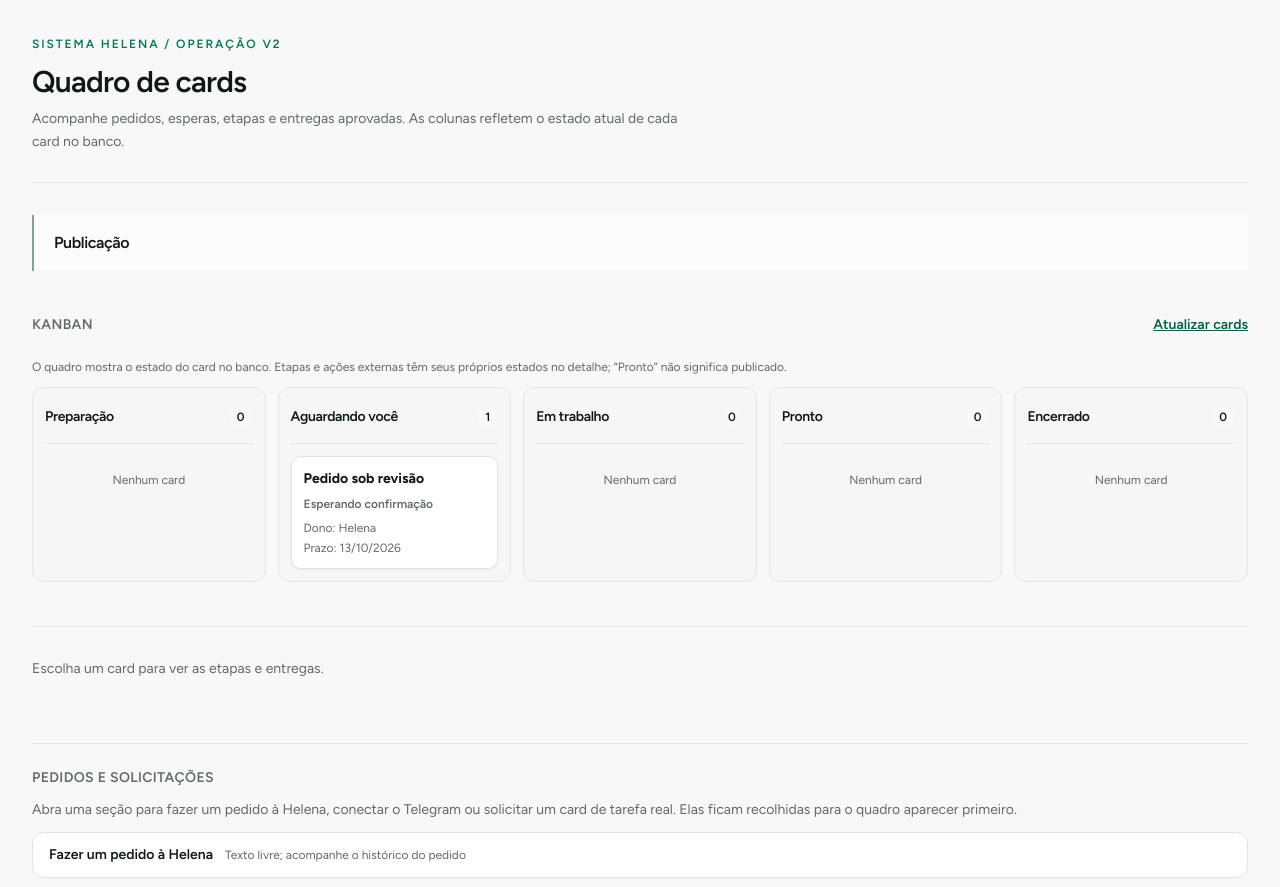
Test: mostra decisão do fundador com versão real apenas para card selecionado em estado permitido
Click the button "Pedido sob revisão" at (394, 512), box top-left (291, 456), bottom-right (498, 569)
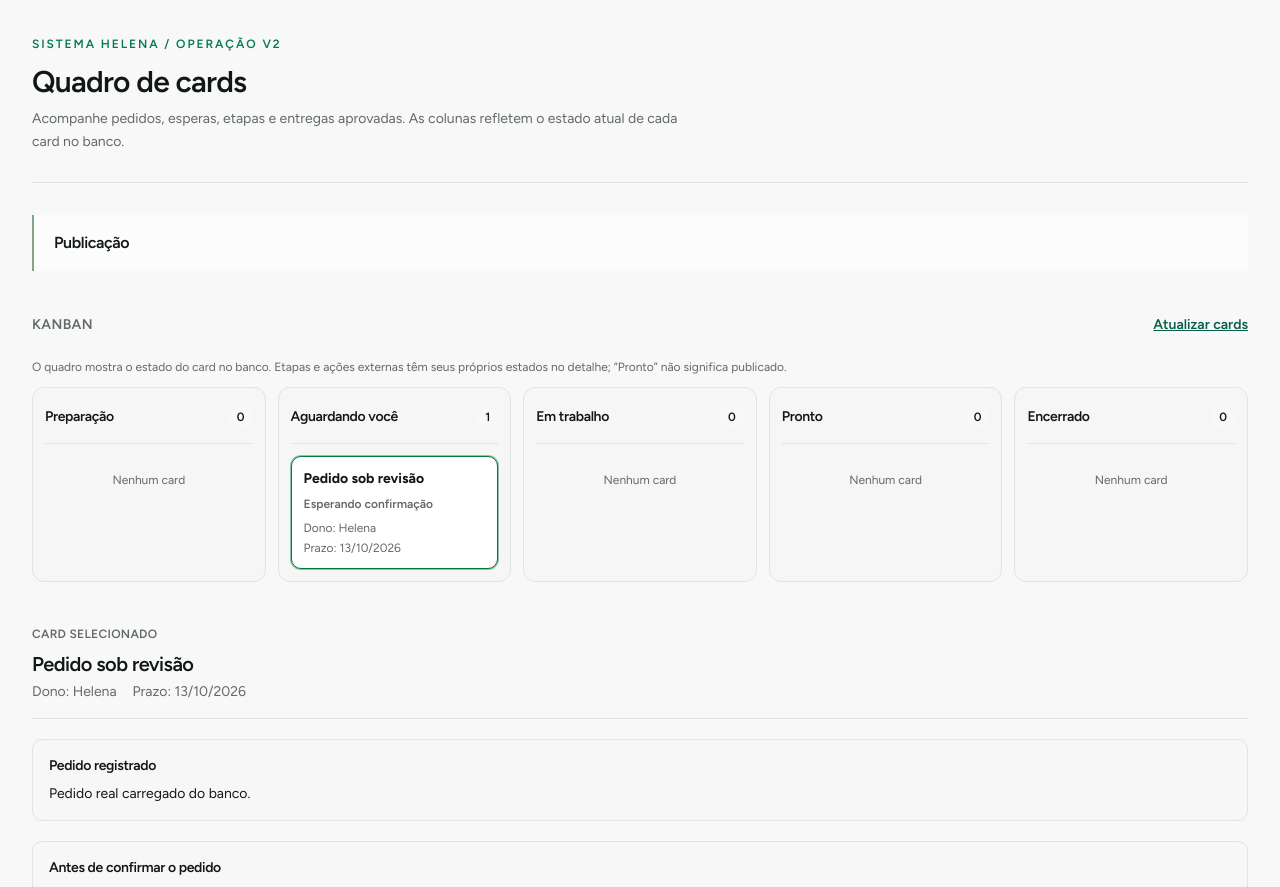
Expected: the text "Pedido real carregado do banco." is shown, top-left (49, 785), bottom-right (250, 802)
Expected: the heading "Pedido registrado" is shown, top-left (49, 757), bottom-right (156, 774)
